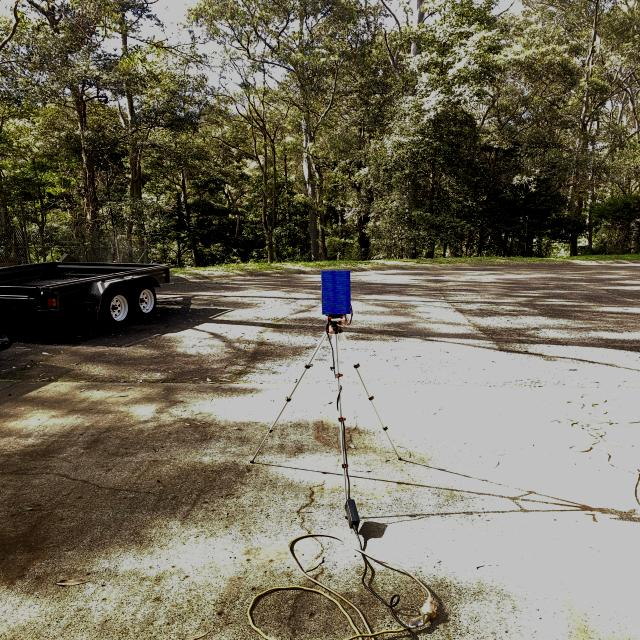matrix: (318, 267, 352, 316)
